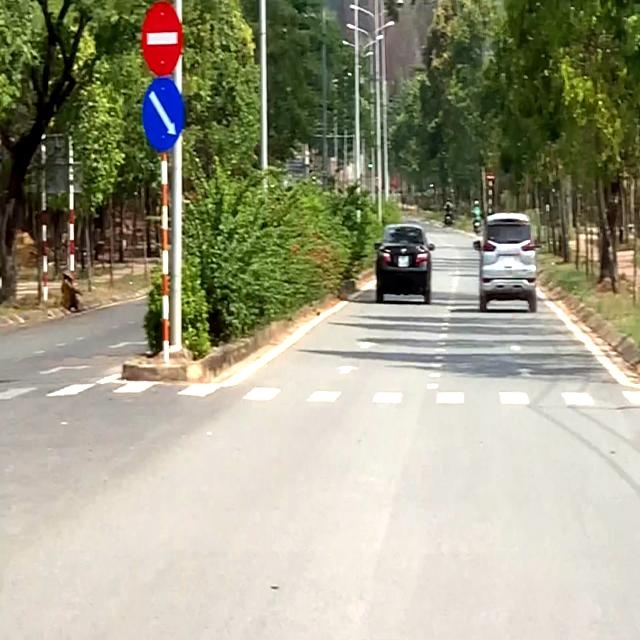bien_hieu_lenh: (142, 77, 184, 152), (142, 0, 182, 77)
